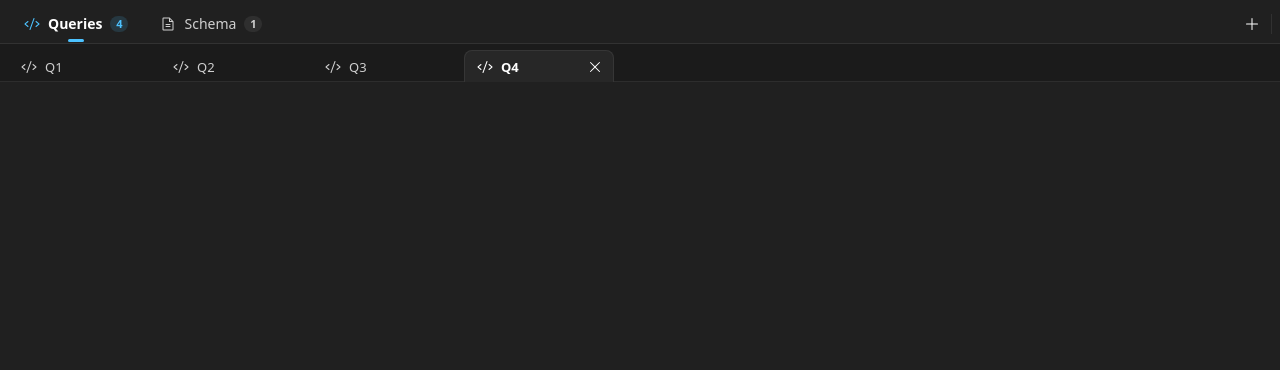
WorkspaceTabs › closes tabs to the left and right within the visible group via context menu
Right-click the element showing "Q2" at (194, 66), box top-left (173, 58), bottom-right (215, 76)
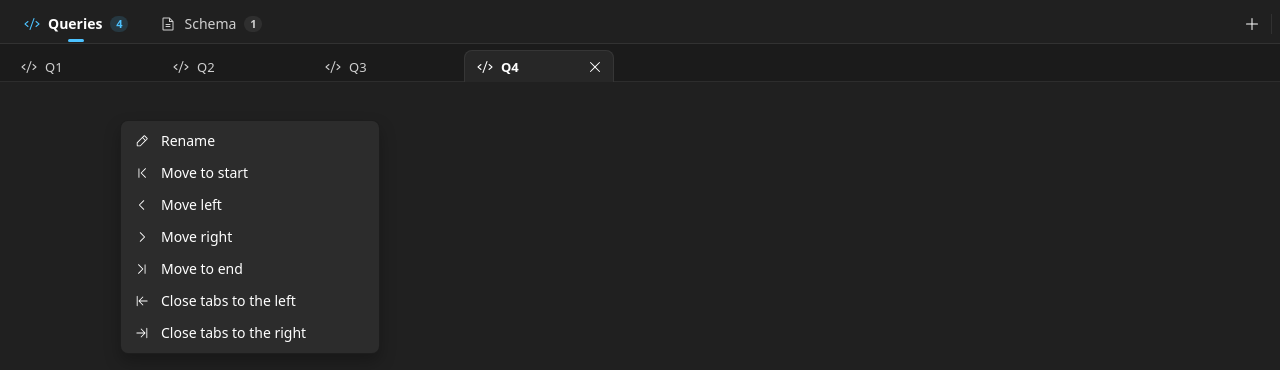
Click the menu item with test id "tab-context-menu-item-close-right". click: (250, 333)
box: top-left (125, 317), bottom-right (375, 349)
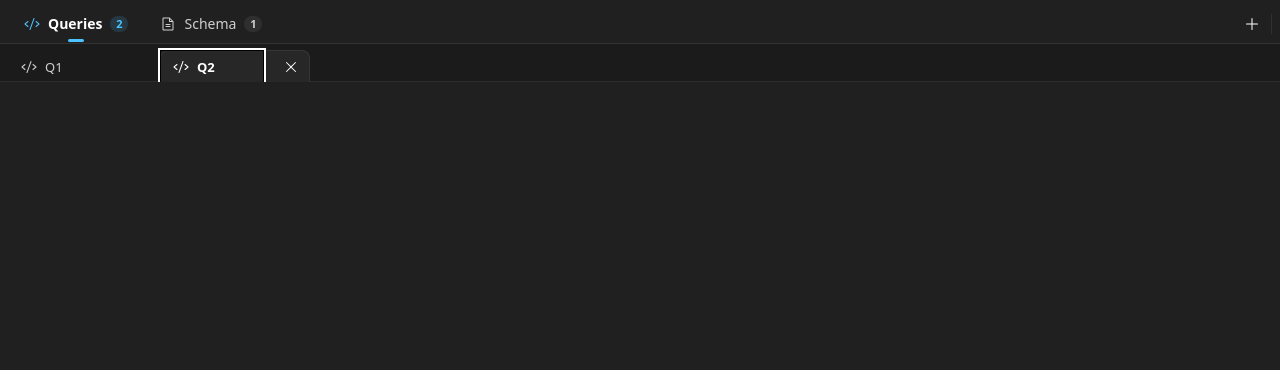
Right-click the element showing "Q2" at (235, 66), box top-left (160, 50), bottom-right (310, 82)
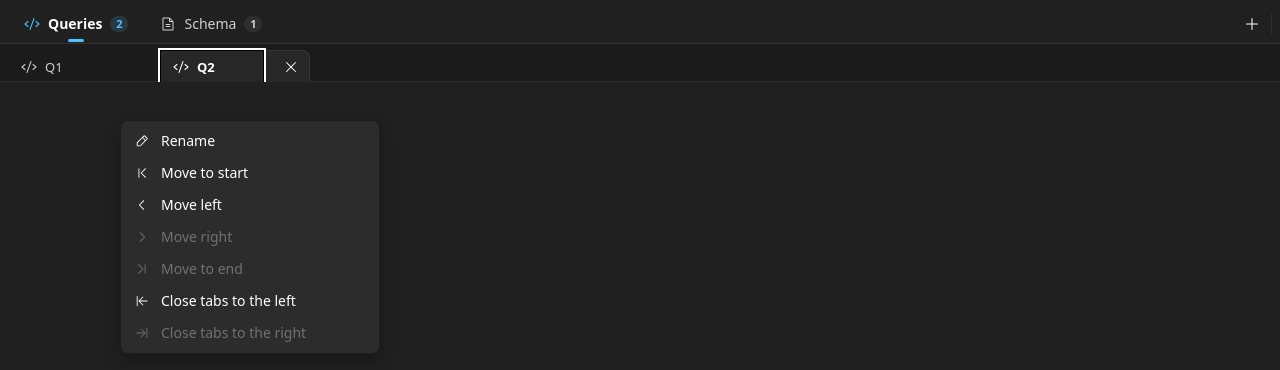
Click the menu item with test id "tab-context-menu-item-close-left". click: (250, 301)
box: top-left (125, 285), bottom-right (375, 317)
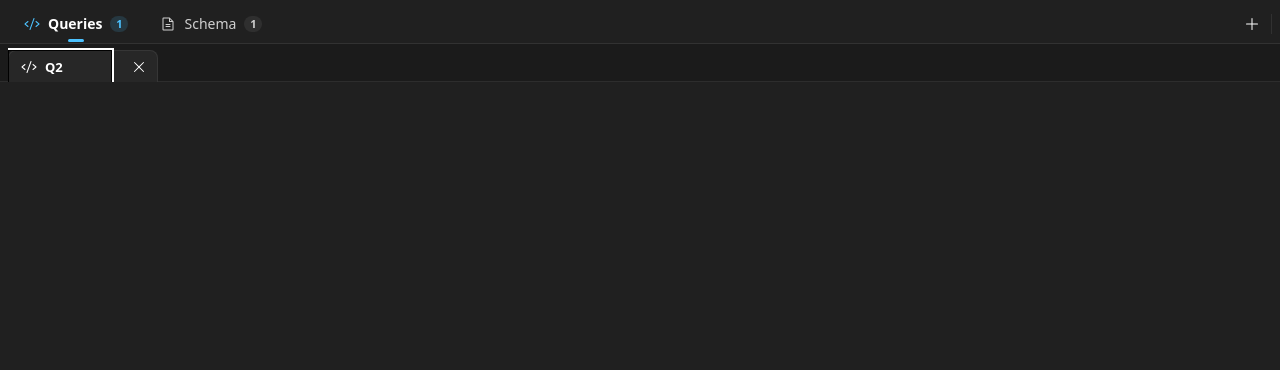
Right-click the element showing "Q2" at (83, 66), box top-left (8, 50), bottom-right (158, 82)
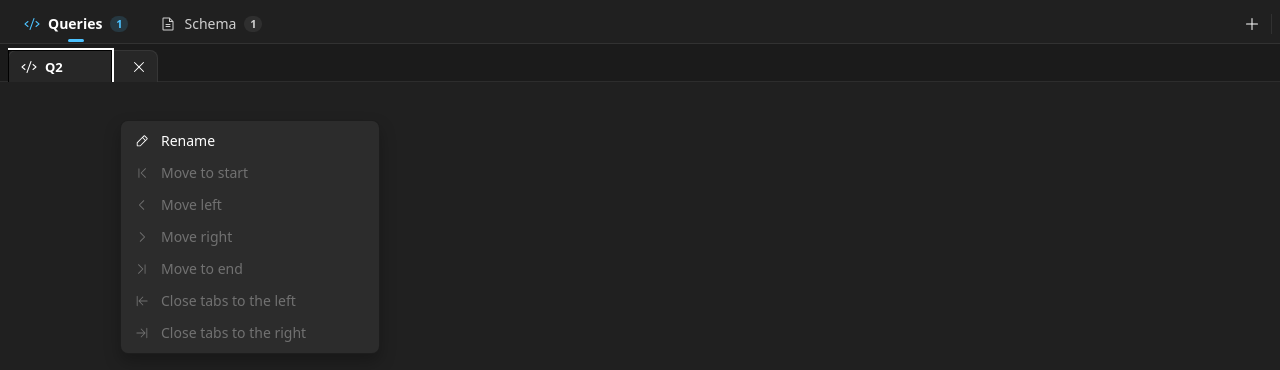
Now the menu item with test id "tab-context-menu-item-close-left" is disabled, box top-left (125, 285), bottom-right (375, 317)
Now the menu item with test id "tab-context-menu-item-close-right" is disabled, box top-left (125, 317), bottom-right (375, 349)
